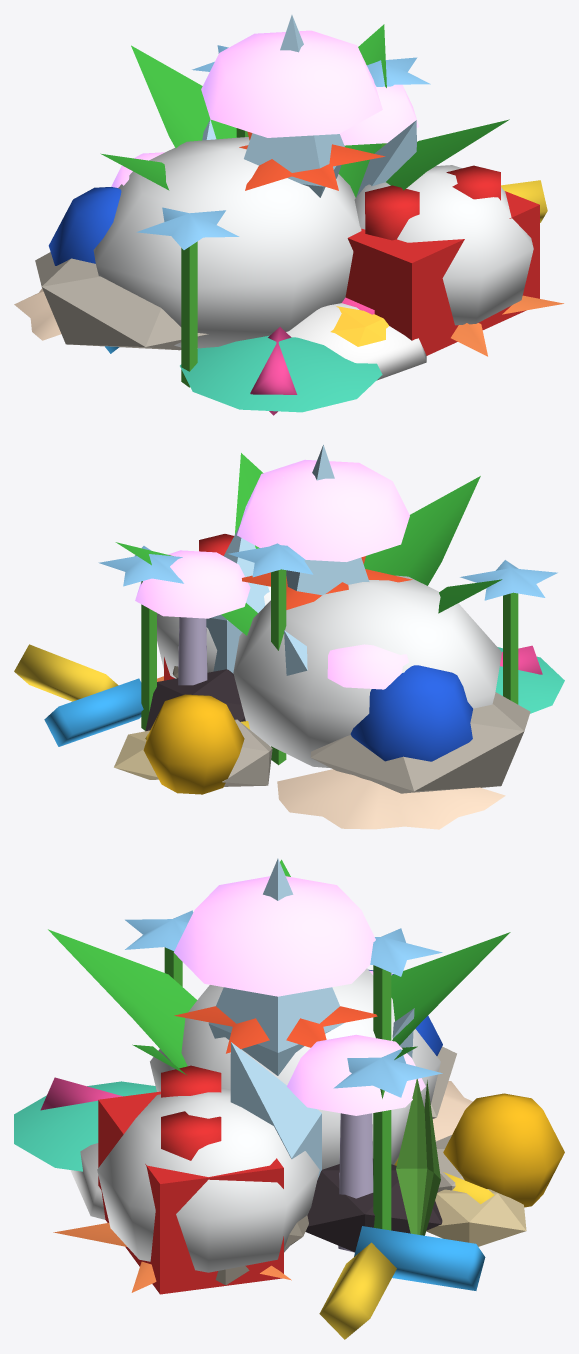
File: worlds-dressing.glb
3 views of the same model, one above another, from view 1: azimuth 30°, elevation 25°; view 2: azimuth 150°, elevation 25°; view 3: azimuth 270°, elevation 25° (orthographic). The views are drawn at different scales.
Parts seen in each view (by area): view 1: sky_bloom, toy_bits, glow_shrooms, sprinkles, jungle_bloom, ice_shards, pebbles, shells, embers; view 2: sky_bloom, glow_shrooms, toy_bits, pebbles, shells, sprinkles, jungle_bloom, ice_shards, embers; view 3: sky_bloom, glow_shrooms, toy_bits, sprinkles, jungle_bloom, ice_shards, pebbles, shells, embers.
Boxes of the visible parts, x1,y1,x2,y2 form: sky_bloom: (93, 45, 533, 387); toy_bits: (48, 165, 539, 355); glow_shrooms: (111, 30, 418, 187); sprinkles: (105, 180, 547, 415); jungle_bloom: (100, 24, 509, 197); ice_shards: (202, 15, 426, 380); pebbles: (35, 252, 208, 350); shells: (14, 288, 563, 356); embers: (330, 306, 388, 346); sky_bloom: (98, 543, 557, 768); glow_shrooms: (135, 459, 409, 689); toy_bits: (143, 534, 472, 794); pebbles: (172, 666, 530, 793); shells: (114, 676, 505, 829); sprinkles: (14, 644, 564, 746); jungle_bloom: (115, 453, 502, 635); ice_shards: (206, 444, 369, 675); embers: (145, 669, 245, 731); sky_bloom: (97, 910, 442, 1272); glow_shrooms: (174, 876, 425, 1252); toy_bits: (98, 969, 564, 1294); sprinkles: (14, 1077, 494, 1339); jungle_bloom: (48, 859, 510, 1074); ice_shards: (70, 858, 414, 1219); pebbles: (215, 1046, 464, 1285); shells: (53, 1081, 526, 1292); embers: (305, 1159, 442, 1252).
Bounding box in the file's own units: 0.7567 × 0.42 × 0.6335.
